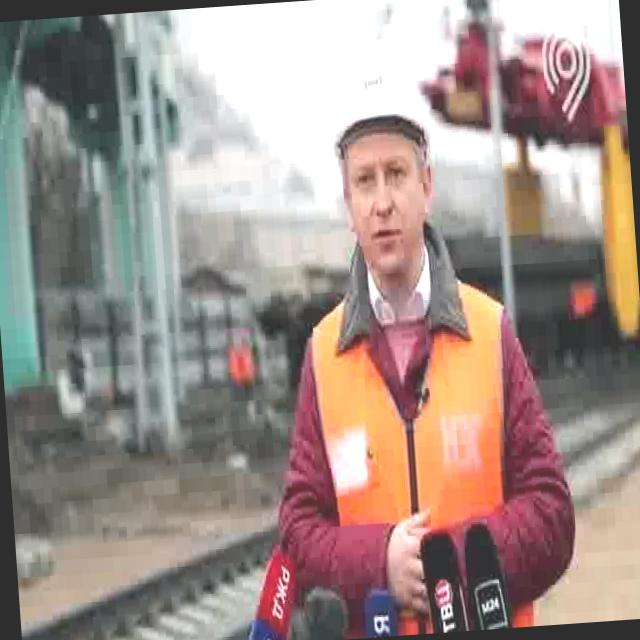helmet: (325, 40, 436, 166)
vest: (304, 266, 541, 640)
